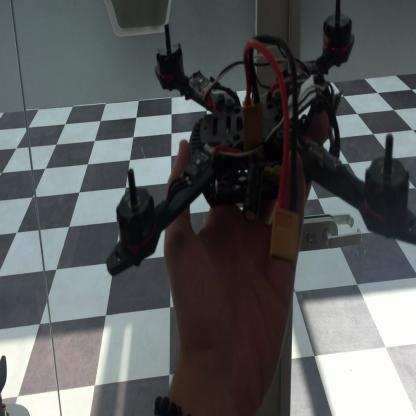drone: (115, 9, 416, 297)
